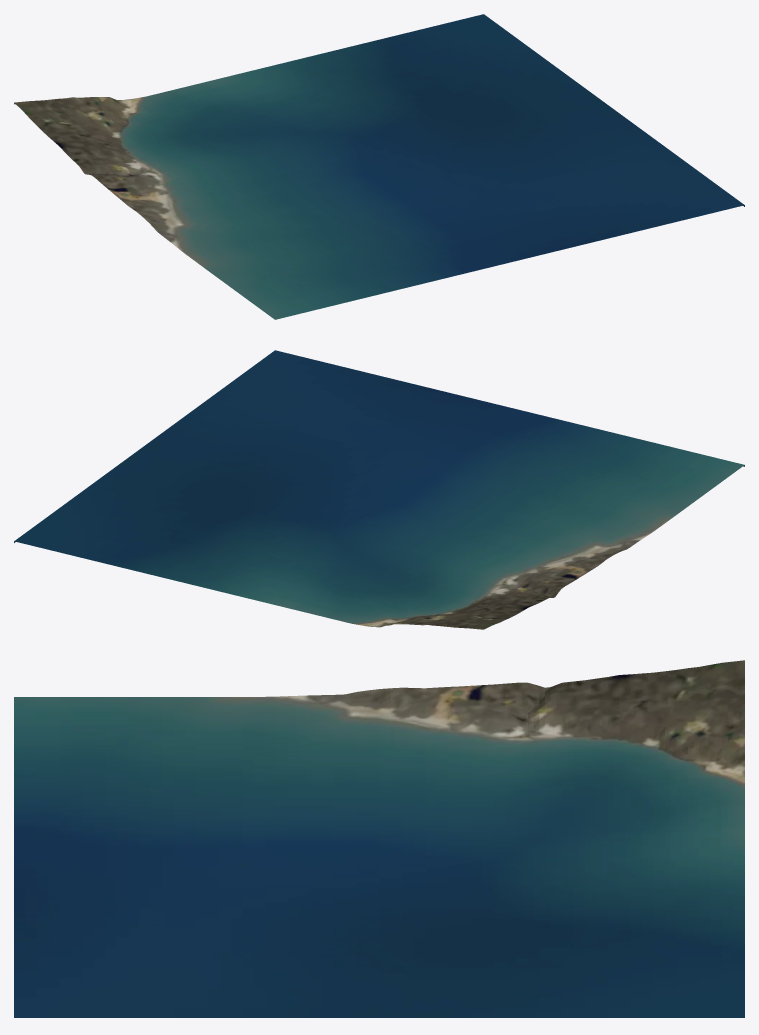
The picture shows the model from 3 angles, top to bottom: view 1: azimuth 30°, elevation 25°; view 2: azimuth 150°, elevation 25°; view 3: azimuth 270°, elevation 25°; orthographic projection. The views are drawn at different scales.
Size of the model in its own units: 250 by 14.34 by 241.
1 material, 1 textured.
